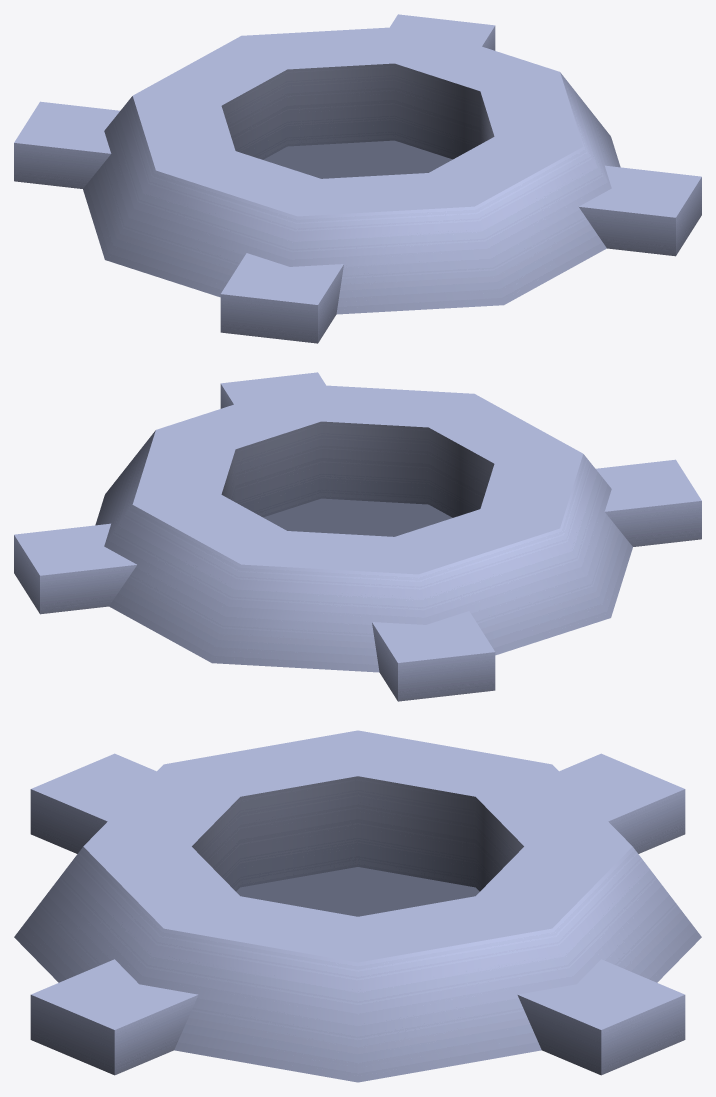
Rendered from tower-defense-kit--spawn-round.glb.
The picture shows the model from 3 angles, top to bottom: view 1: azimuth 30°, elevation 25°; view 2: azimuth 150°, elevation 25°; view 3: azimuth 270°, elevation 25°; orthographic projection. The views are drawn at different scales.
Parts seen in each view (by area): view 1: spawn-round; view 2: spawn-round; view 3: spawn-round.
Boxes of the visible parts, x1,y1,x2,y2 form: spawn-round: [14, 14, 701, 343]; spawn-round: [14, 372, 701, 701]; spawn-round: [14, 730, 701, 1082].
Bounding box in the file's own units: 0.6875 × 0.1 × 0.6875.
Materials: 1 (1 with a texture image).
